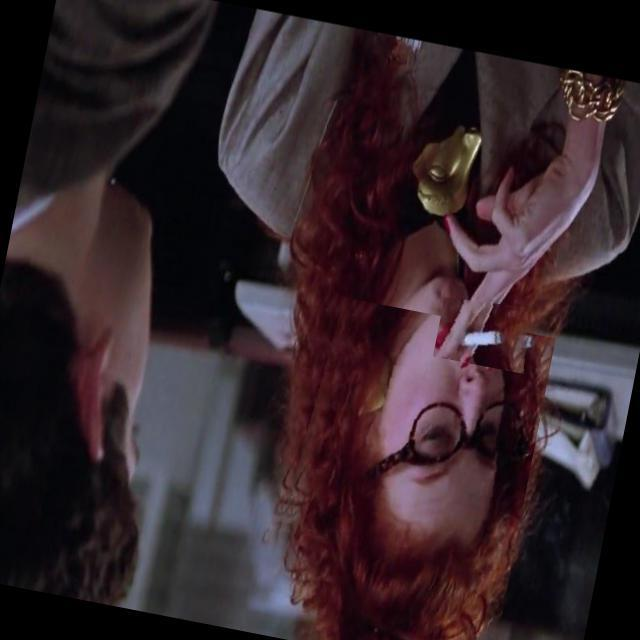cigarette: (432, 291, 536, 374)
